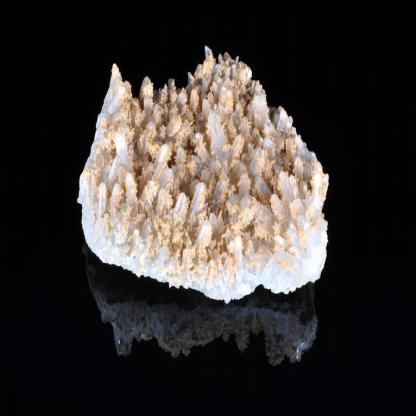Sedimentary_Limestone: (69, 32, 328, 312)
